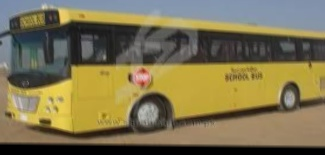bus: (0, 10, 325, 135)
